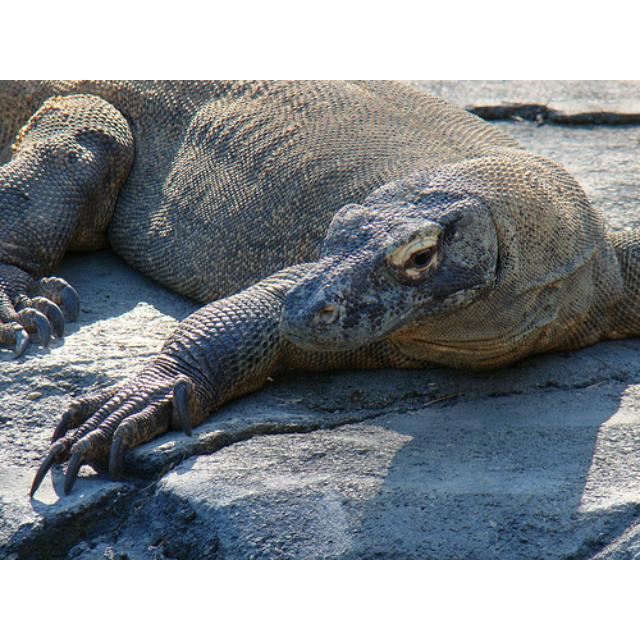KomodoDragon: (0, 81, 636, 498)
